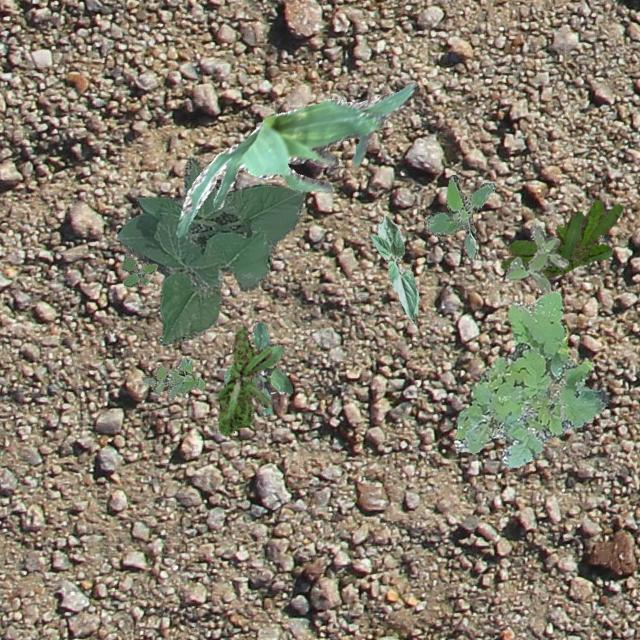crop: (175, 80, 416, 236), (115, 156, 304, 344), (370, 214, 418, 322)
weed: (453, 290, 608, 466), (501, 200, 622, 278), (222, 320, 292, 416), (216, 326, 278, 434), (422, 174, 494, 262), (504, 224, 568, 294), (140, 357, 203, 398), (120, 252, 156, 286)
